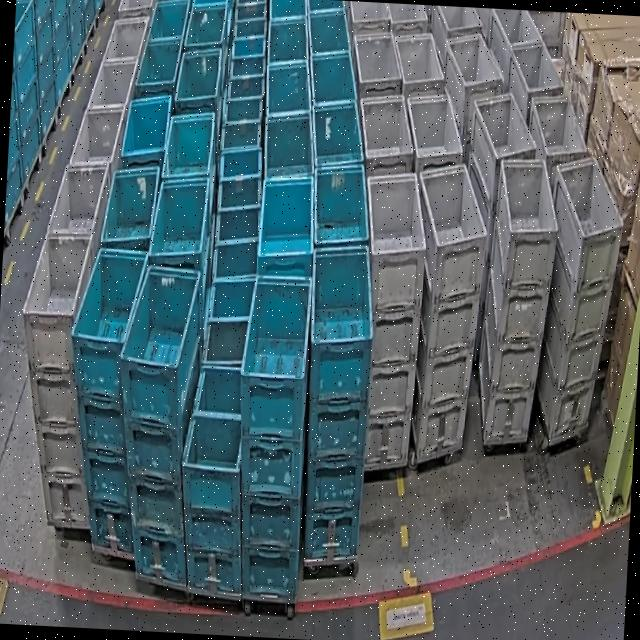4G: (11, 228, 106, 530), (534, 155, 626, 443), (404, 162, 490, 466), (474, 158, 562, 448), (352, 171, 431, 474)
B4: (111, 255, 204, 586), (59, 247, 150, 555), (229, 274, 313, 600), (297, 243, 378, 563)
B8: (175, 364, 253, 594)
